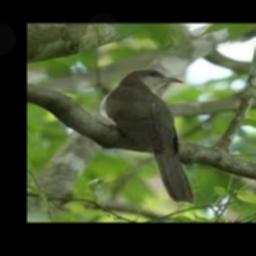Cuckoo: (100, 68, 194, 205)
